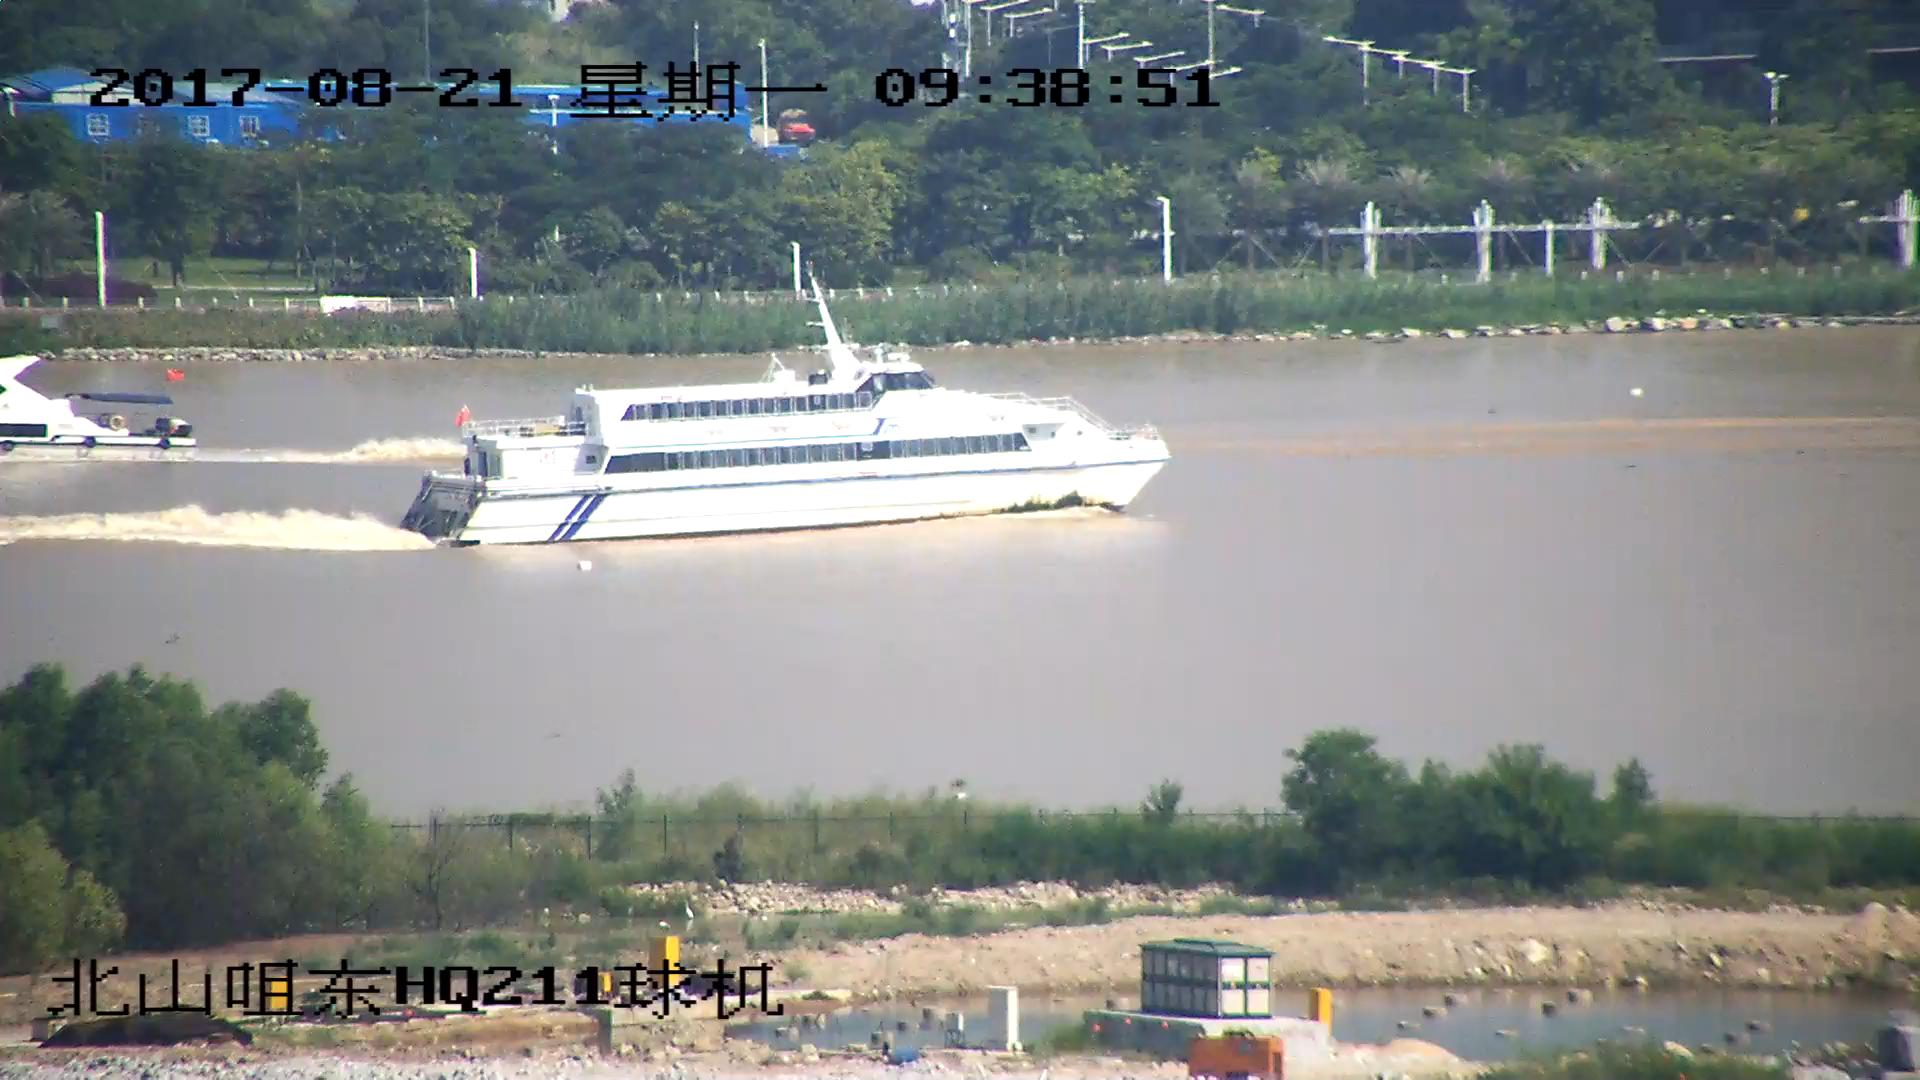passenger ship: (394, 283, 1170, 551), (1, 356, 202, 467)
